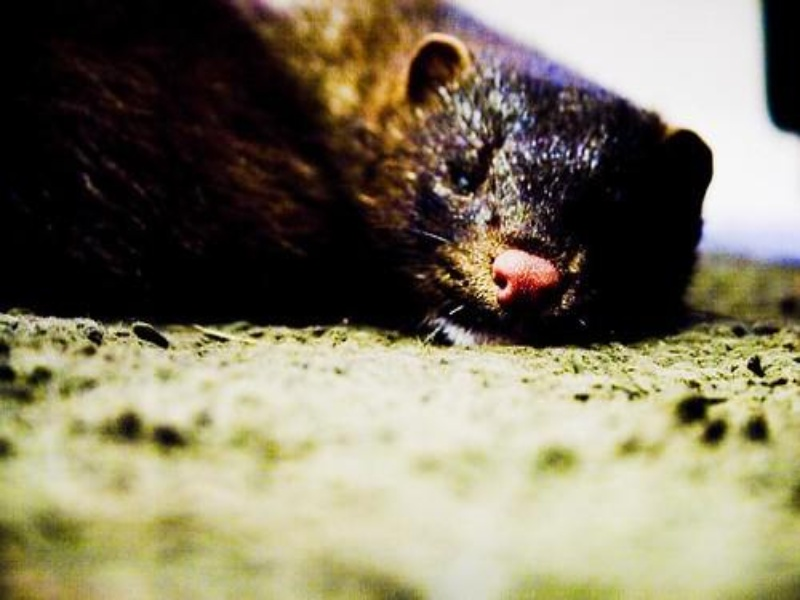minkish: (15, 1, 718, 346)
